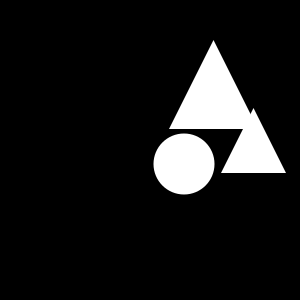rectangle: (153, 133, 214, 194)
triangle: (169, 40, 258, 129), (221, 108, 286, 173)
